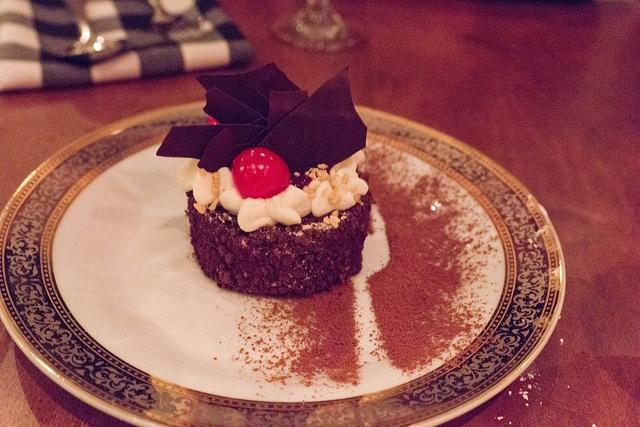cherry: (232, 147, 290, 200), (206, 116, 220, 125)
